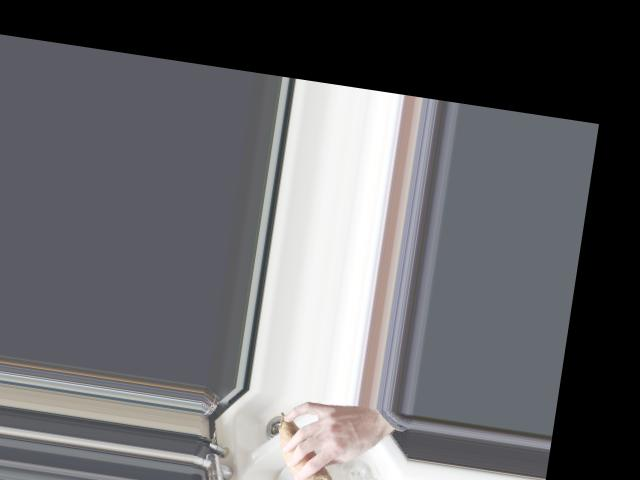sweet_potato: (270, 411, 342, 480)
